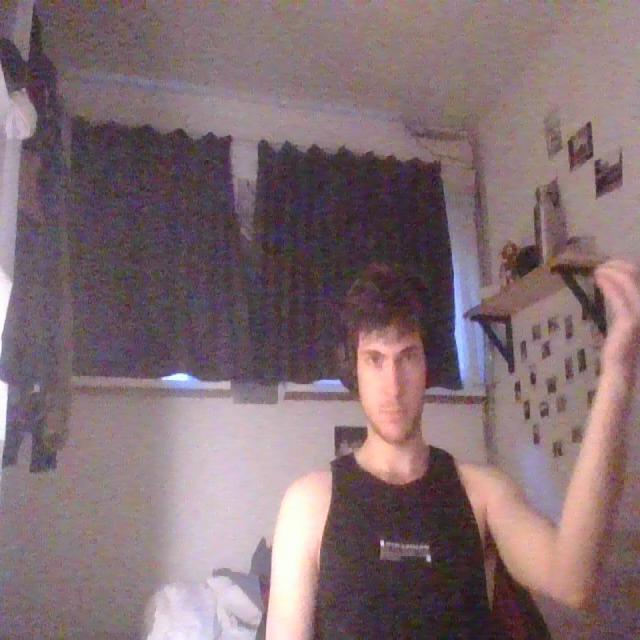forward: (584, 248, 640, 388)
